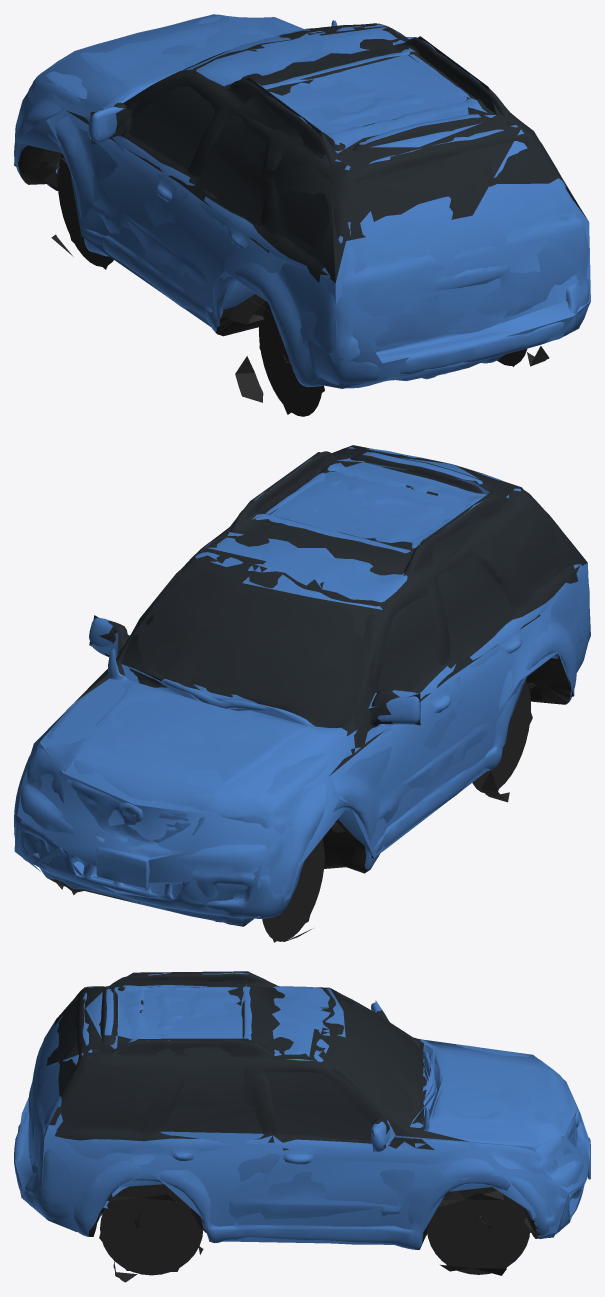
The model's file is mazda-tribute.glb.
3 views of the same model, one above another, from view 1: azimuth 30°, elevation 25°; view 2: azimuth 150°, elevation 25°; view 3: azimuth 270°, elevation 25° (orthographic). The views are drawn at different scales.
Visible parts, largest first — view 1: body, far; view 2: body, far; view 3: body, far.
Boxes of the visible parts, x1,y1,x2,y2 form: body: (14, 14, 589, 416); far: (14, 14, 590, 414); body: (14, 447, 589, 941); far: (14, 445, 590, 942); body: (14, 972, 590, 1282); far: (15, 971, 589, 1275).
Size of the model in its own units: 2.37 by 2.01 by 4.48.
